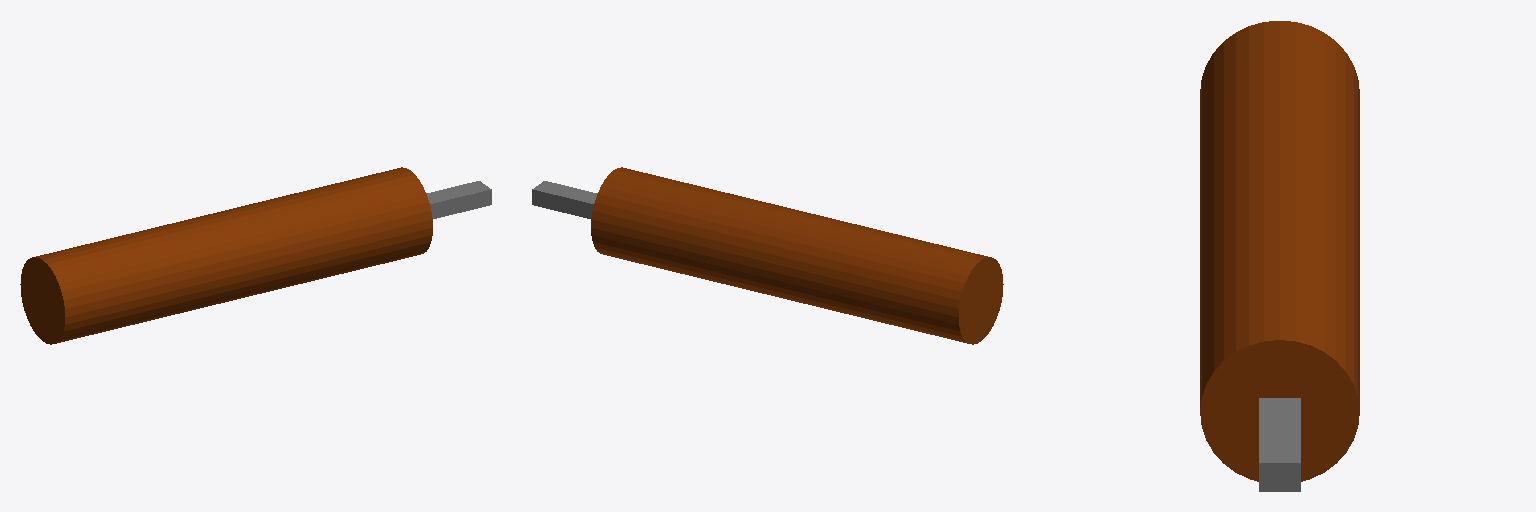
URDF robot description (handle_head):
<?xml version="1.0"?>
<robot name="handle_head">

  <link name="handle_head">
    <!-- Handle -->
    <visual>
              <origin xyz="0 0 0" rpy="0 -1.5707963267948966 0"/>
        <geometry>
          <cylinder length="0.13511754438132625" radius="0.014279628083441725"/>
        </geometry>
        
      <material name="brown">
        <color rgba="0.55 0.27 0.07 1.0"/>
      </material>
    </visual>
    <collision>
              <origin xyz="0 0 0" rpy="0 -1.5707963267948966 0"/>
        <geometry>
          <cylinder length="0.13511754438132625" radius="0.014279628083441725"/>
        </geometry>
        
    </collision>

    <!-- Head -->
    <visual>
              <origin xyz="0.08130853100497938 0 0" rpy="0 0 0"/>
        <geometry>
          <box size="0.027499517628632515 0.007669200589387796 0.0055498225107357005"/>
        </geometry>
        
      <material name="gray">
        <color rgba="0.5 0.5 0.5 1.0"/>
      </material>
    </visual>
    <collision>
              <origin xyz="0.08130853100497938 0 0" rpy="0 0 0"/>
        <geometry>
          <box size="0.027499517628632515 0.007669200589387796 0.0055498225107357005"/>
        </geometry>
        
    </collision>

    <inertial>
      <origin xyz="0.0009847011896117802 0 0" rpy="0 0 0"/>
      <mass value="0.05340016778870455"/>
      <inertia ixx="5.250394973134648e-06" iyy="0.00011195272974925743" izz="0.00011195423961218883" ixy="0" ixz="0" iyz="0"/>
    </inertial>
  </link>

</robot>

--- Facts derived from the render (not from the file) ---
3 views of the same robot in one strip: view 1: azimuth 30°, elevation 25°; view 2: azimuth 150°, elevation 25°; view 3: azimuth 270°, elevation 25° (orthographic).
Model handle_head with 1 links and 0 joints (none), rooted at handle_head, posed all joints at 0.
Visible links, largest first — view 1: handle_head; view 2: handle_head; view 3: handle_head.
Boxes of the visible links, left/top/right/bottom form: handle_head: left=20, top=167, right=491, bottom=344; handle_head: left=532, top=167, right=1003, bottom=344; handle_head: left=1200, top=21, right=1359, bottom=491.
Size in the robot's own frame: 0.1626 by 0.0286 by 0.0286 metres.
Geometry: primitives only (box / cylinder / sphere), no mesh files.
